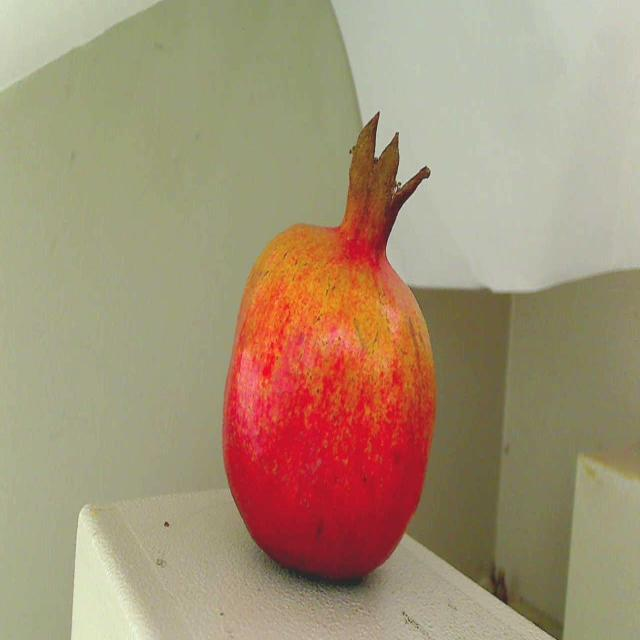pomegranate: (215, 100, 450, 587)
